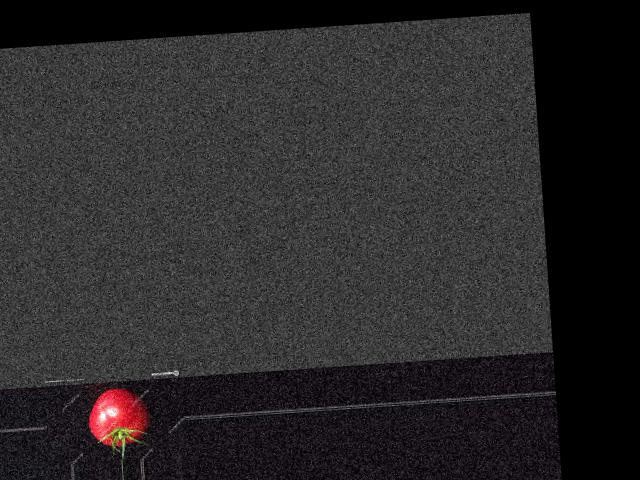tomato: (86, 386, 150, 448)
